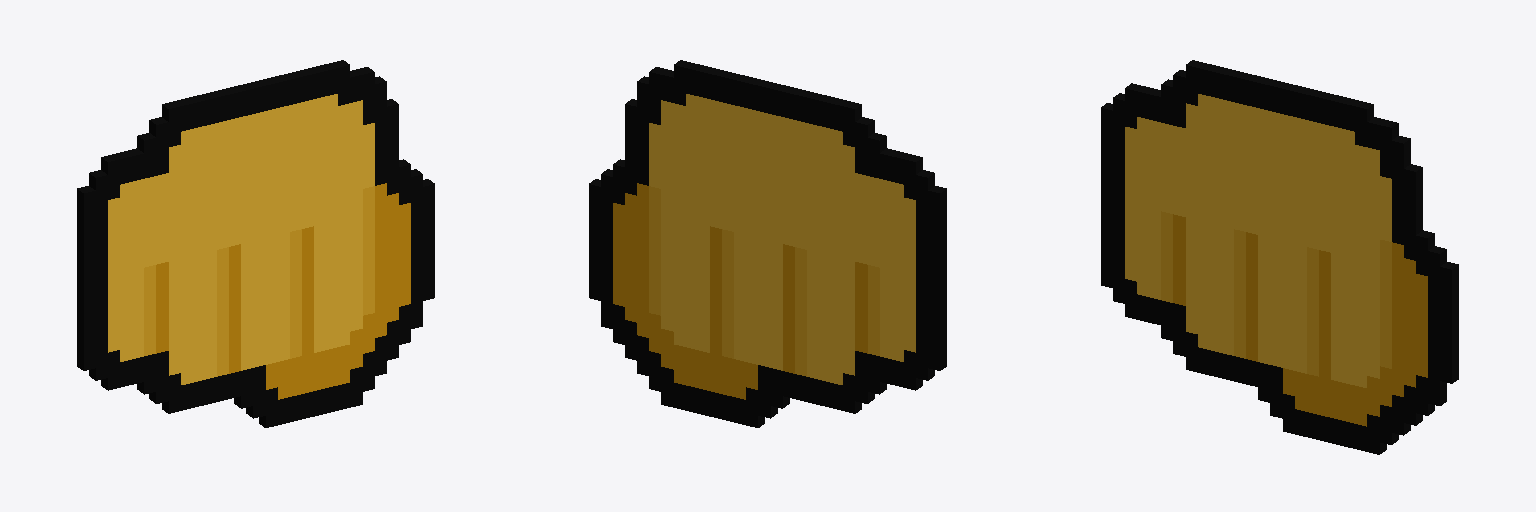
The picture shows the model from 3 angles: view 1: azimuth 30°, elevation 25°; view 2: azimuth 150°, elevation 25°; view 3: azimuth 330°, elevation 25°; orthographic projection.
Parts seen in each view (by area): view 1: object 1; view 2: object 1; view 3: object 1.
Part boxes in pixels (left/top/right/bottom): object 1: left=77, top=60, right=434, bottom=427; object 1: left=589, top=60, right=946, bottom=427; object 1: left=1101, top=60, right=1458, bottom=454.
Size of the model in its own units: 2.9 by 2.7 by 0.1.
1 materials, 1 textured.